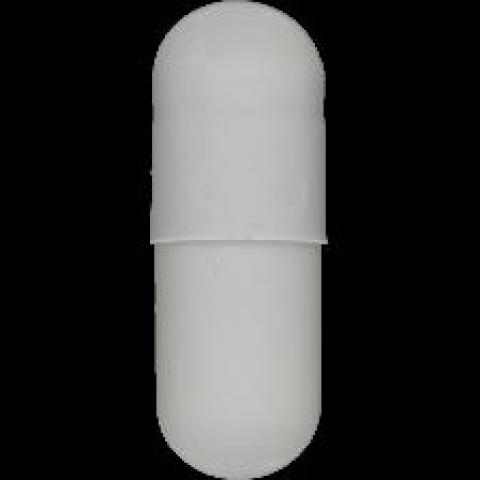Pill: (105, 2, 399, 480)
